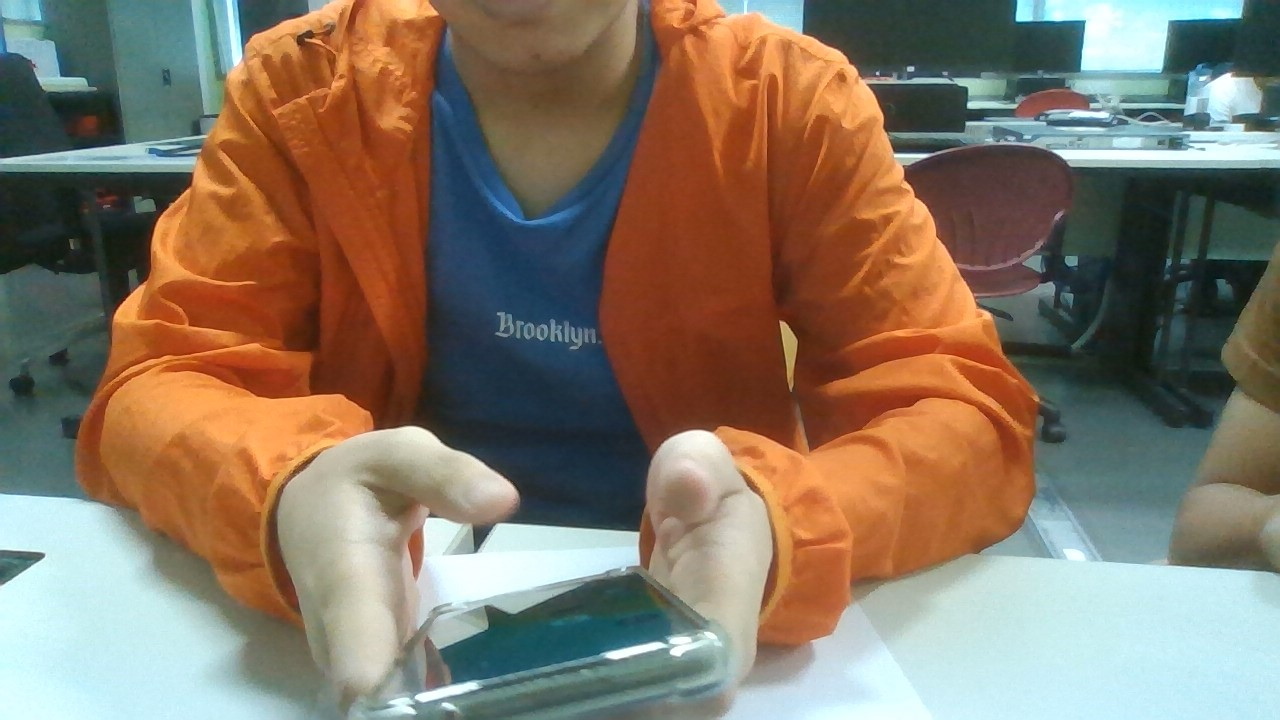phone: (347, 568, 729, 720)
